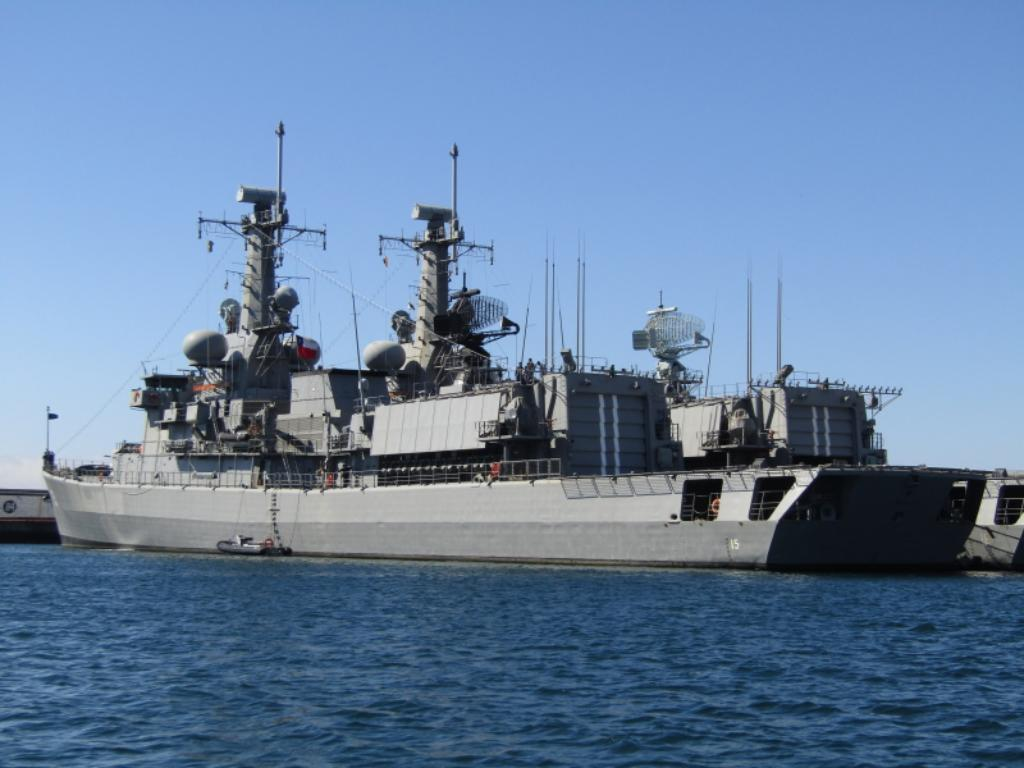Warship: (34, 112, 988, 576)
